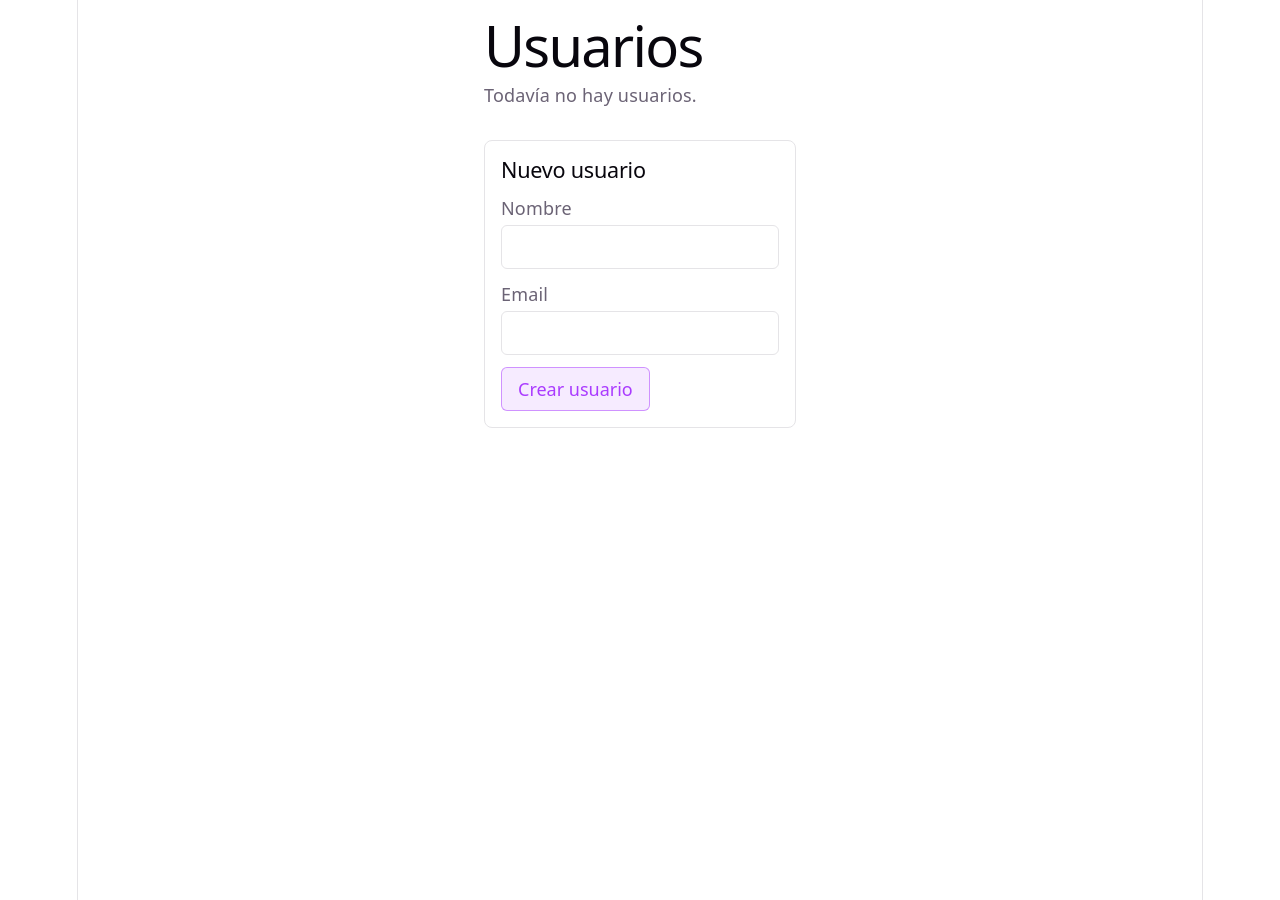
Test: UsuariosPage › agrega a la lista el usuario creado con el formulario
Expected: the text "Todavía no hay usuarios." is shown, [484, 83, 697, 107]
Type "Eva" into the field labelled "Nombre" at (640, 247), box [501, 225, 779, 269]
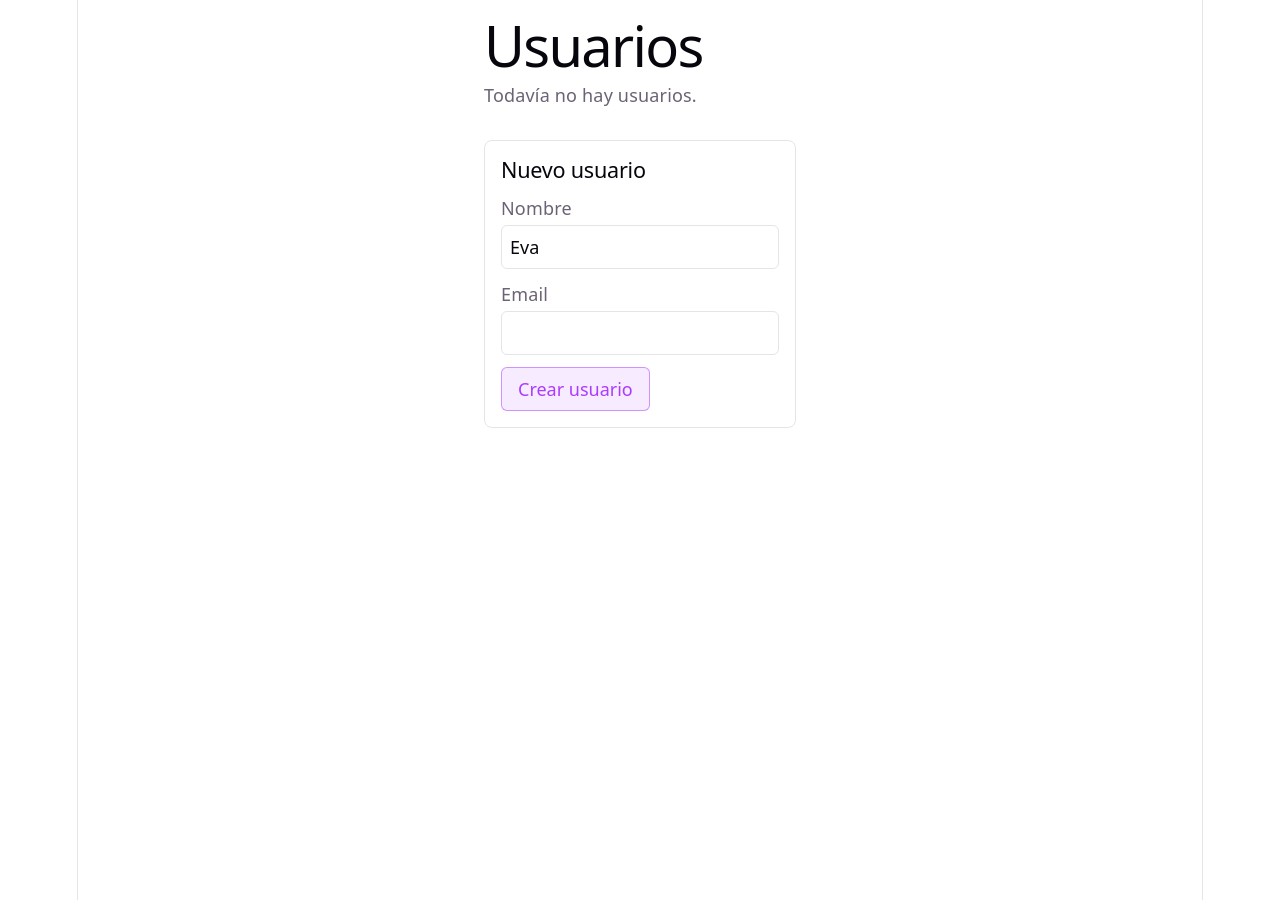
Type "eva@ejemplo.com" into the field labelled "Email" at (640, 333), box [501, 311, 779, 355]
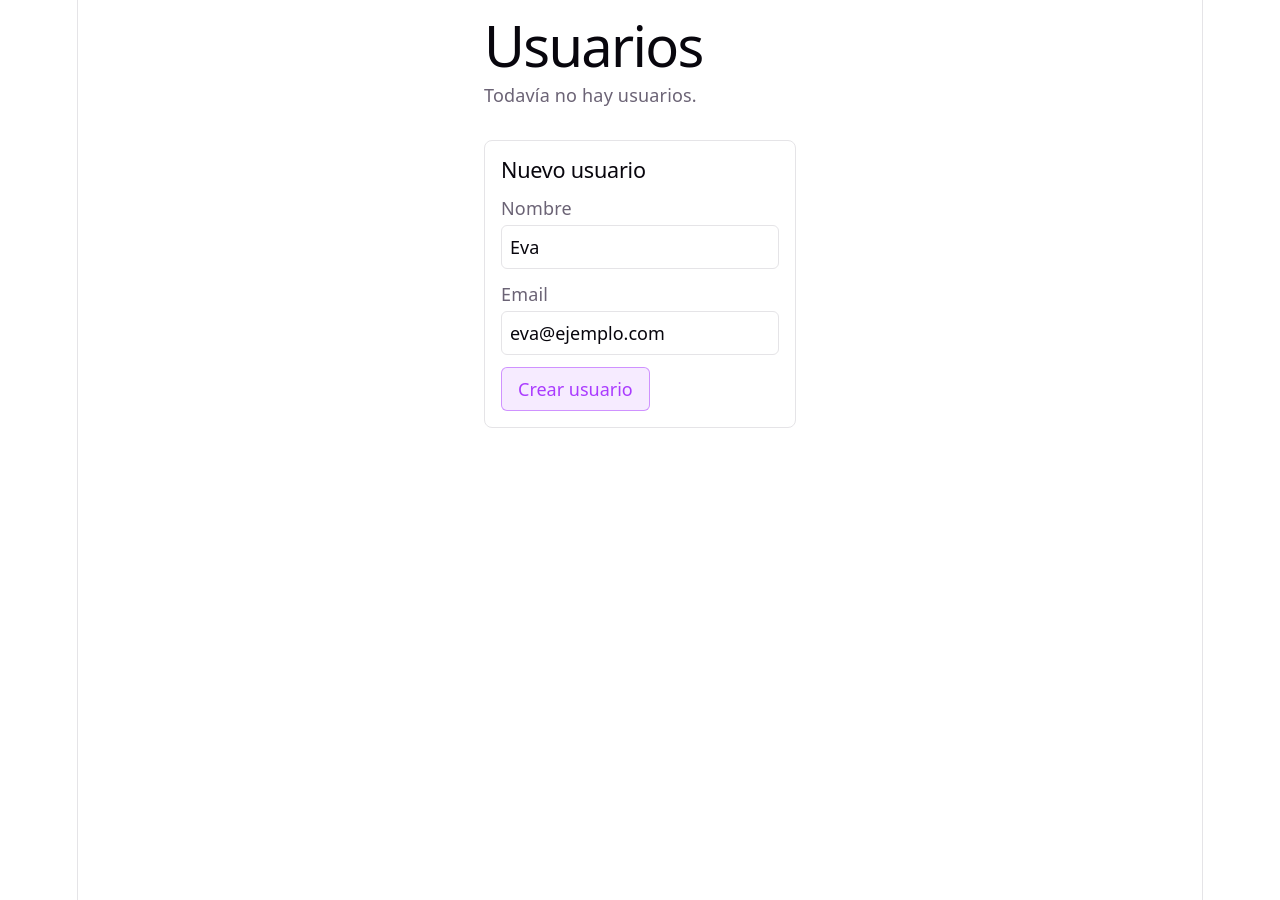
Click the button "Crear usuario" at (575, 389), box [501, 367, 650, 411]
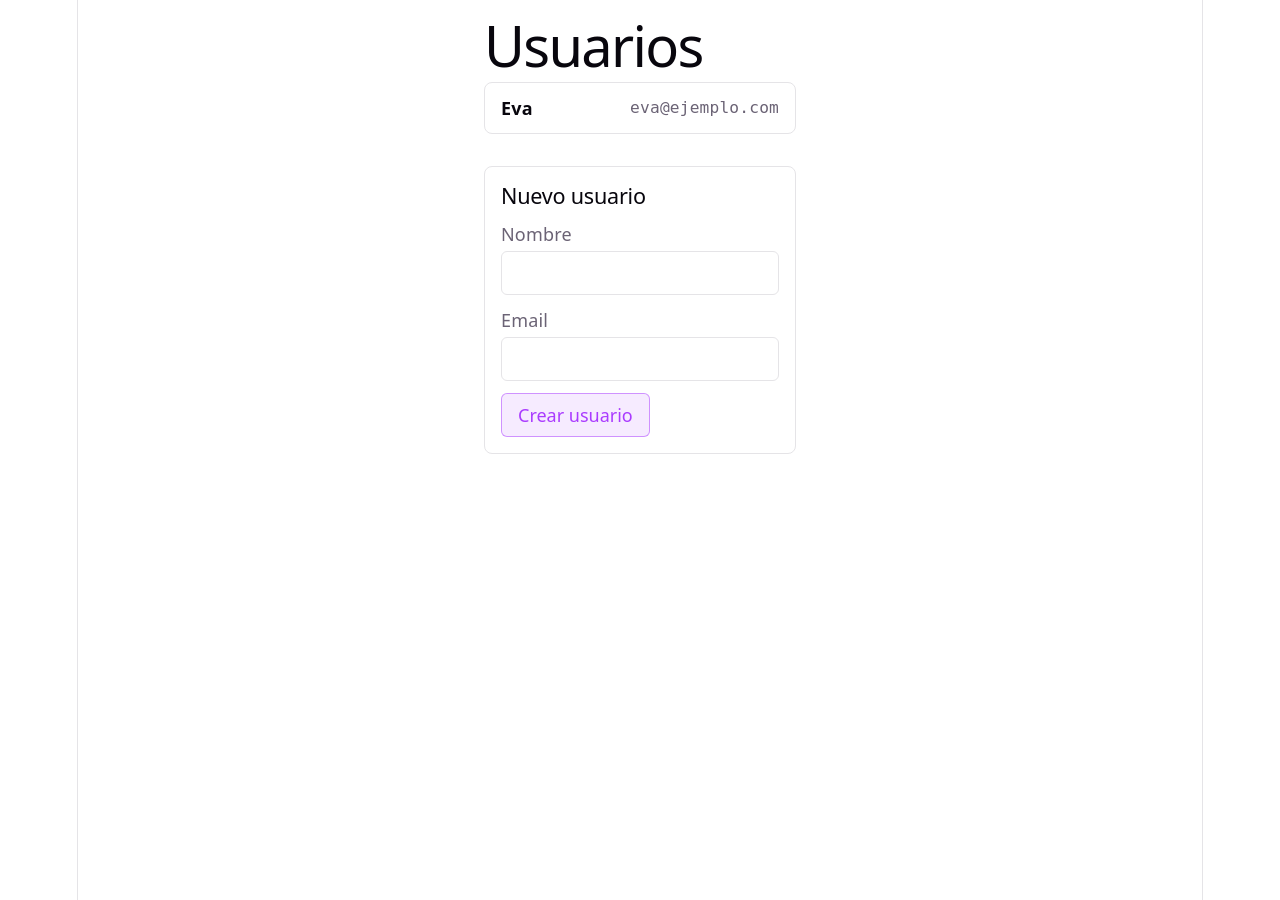
Result: the list item shows "Eva" at [501, 96, 533, 120]
Result: the list item shows "eva@ejemplo.com" at [630, 98, 779, 117]
